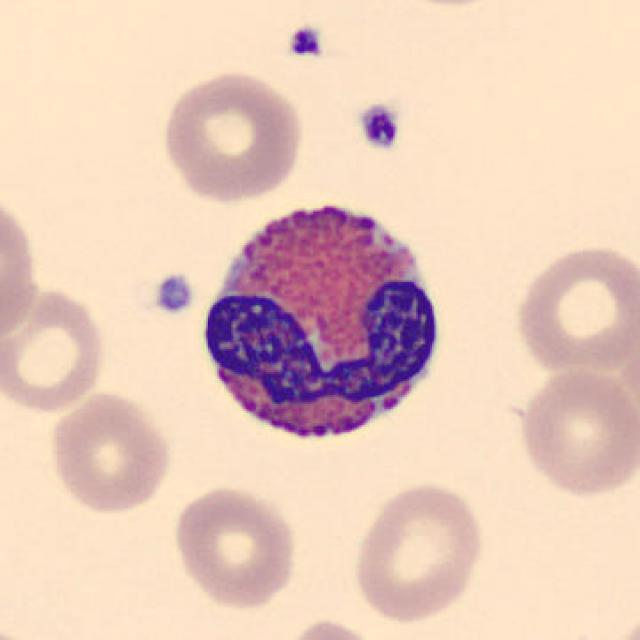Eosinophil: (190, 180, 455, 464)
Platelets: (354, 101, 404, 155), (150, 270, 198, 317), (283, 21, 327, 64)
RBC: (156, 67, 308, 205), (348, 478, 489, 626), (508, 240, 636, 377), (169, 481, 302, 612), (514, 363, 638, 501), (44, 388, 176, 516), (0, 282, 110, 414), (0, 185, 43, 353), (276, 615, 384, 640)
